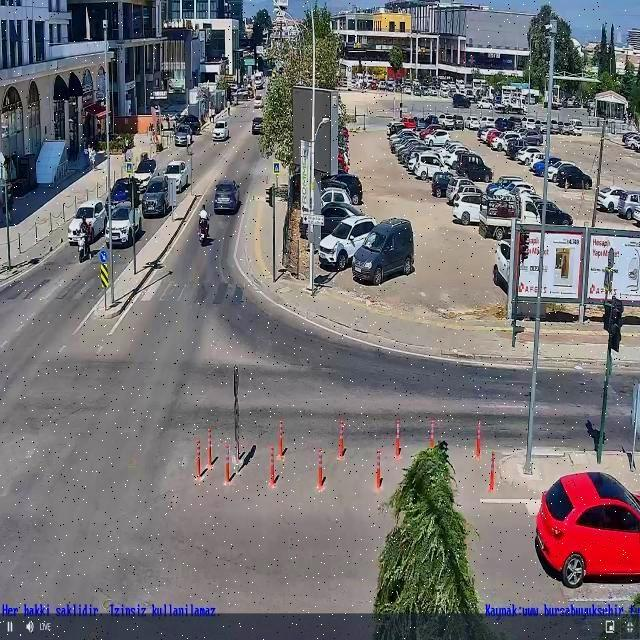Car: (536, 471, 640, 588), (491, 235, 571, 289), (352, 218, 416, 283), (318, 213, 380, 270), (68, 200, 108, 245), (308, 202, 367, 231), (105, 203, 142, 247), (305, 172, 362, 200), (209, 174, 246, 216), (141, 176, 172, 217), (530, 199, 574, 226), (452, 192, 486, 226), (455, 152, 493, 182), (413, 152, 449, 180), (554, 164, 592, 190), (129, 158, 157, 192), (446, 178, 481, 205), (110, 176, 141, 205), (494, 240, 512, 289), (597, 186, 629, 212), (164, 160, 190, 192), (488, 180, 530, 198), (431, 171, 460, 197), (531, 158, 565, 180), (439, 144, 467, 167), (616, 191, 640, 217), (317, 188, 351, 206), (516, 146, 546, 166), (506, 138, 532, 158), (493, 132, 519, 152), (423, 129, 450, 147), (176, 115, 200, 134), (518, 130, 543, 147), (174, 125, 194, 146), (212, 120, 230, 140), (622, 134, 640, 151), (386, 122, 407, 136), (566, 119, 584, 135), (495, 176, 526, 185), (452, 94, 471, 108), (439, 114, 455, 129), (494, 118, 514, 130), (506, 116, 524, 129), (544, 120, 561, 133), (252, 117, 264, 135), (464, 116, 480, 129), (479, 116, 495, 129), (477, 98, 494, 110), (521, 116, 538, 128), (421, 115, 439, 126), (451, 115, 465, 129), (563, 97, 579, 108), (234, 89, 249, 100), (544, 100, 561, 109), (493, 101, 506, 112), (253, 95, 263, 109), (254, 76, 264, 89), (439, 88, 450, 98), (378, 81, 388, 91), (413, 86, 423, 96), (427, 88, 439, 96), (230, 84, 238, 92), (404, 86, 412, 94)
Cycle: (74, 222, 96, 264), (195, 205, 212, 247)
Truck: (481, 196, 538, 238)
